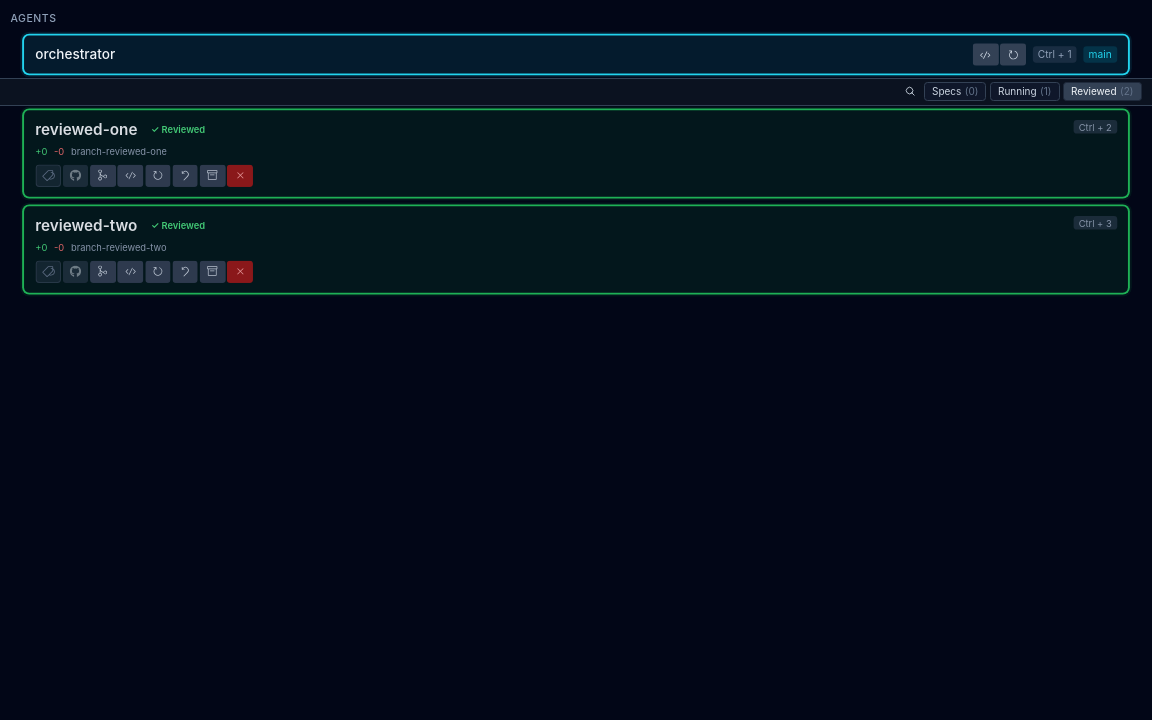
Scenario: Merge selection progression › selects the next reviewed session after completing a merge
Check: the text "reviewed-two" is shown, box [35,215,137,234]
Click the text "reviewed-one": (86, 129) [34,120,139,139]
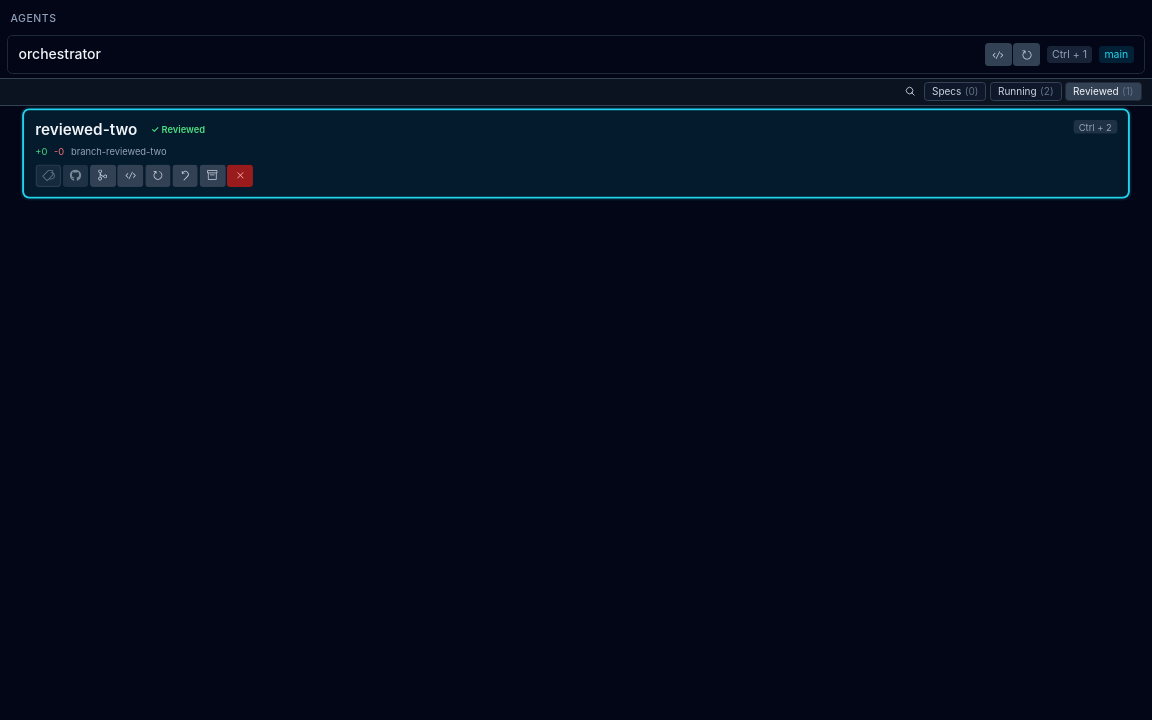
Check: the button "reviewed-two ✓ Reviewed Ctrl + 2 +0 -0 branch-reviewed-two" is shown, box [24,110,1128,196]
Check: the button "reviewed-one" is gone
